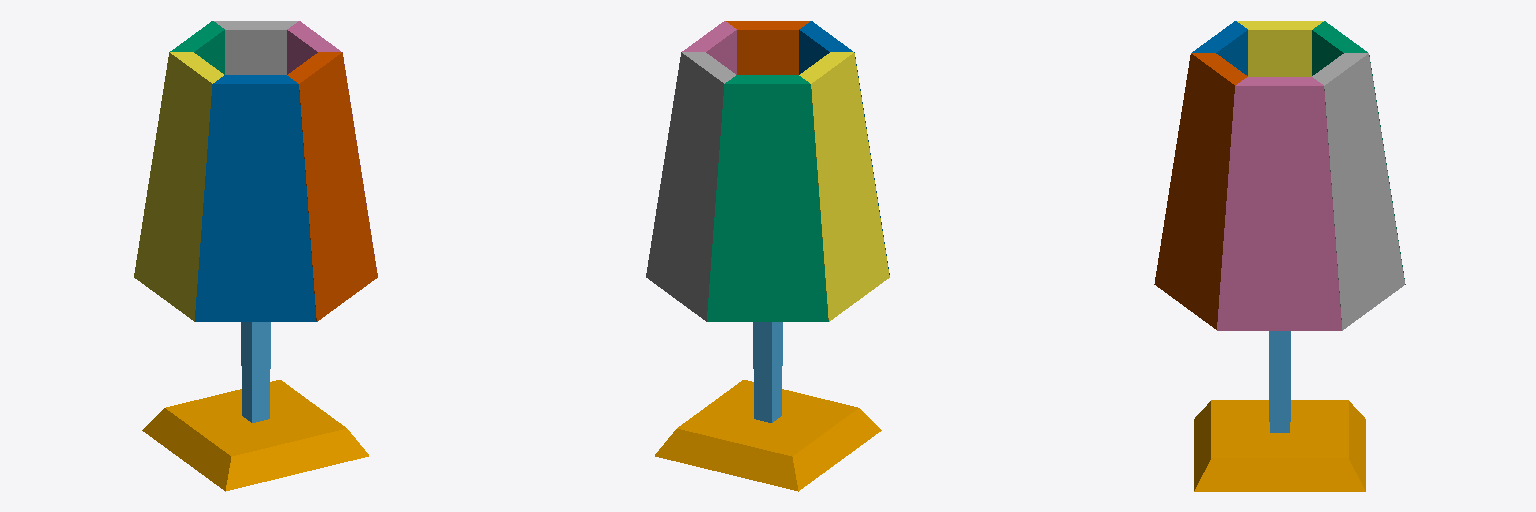
URDF robot description (tablelamp):
<?xml version="1.0"?>
<robot name="tablelamp">
  <link name="base">
    <inertial>
        <origin rpy="0 0 0" xyz="0 0 0"/>
        <mass value="2.0"/>
        <inertia ixx="4.4e-5" ixy="0" ixz="0" iyy="0" iyz="0" izz="4.4e-5"/>
    </inertial>
    <visual>
      <geometry>
        <mesh filename="base.obj"/>
      </geometry>
    </visual>
    <collision>
      <geometry>
        <mesh filename="base.obj"/>
      </geometry>
      <surface>
           <bounce restitution_coefficient = "0.1"/>
      </surface>
    </collision>
  </link>
  <link name="pole">
    <inertial>
        <origin rpy="0 0 0" xyz="0 0 0"/>
        <mass value="1.0"/>
        <inertia ixx="4.4e-5" ixy="0" ixz="0" iyy="0" iyz="0" izz="4.4e-5"/>
    </inertial>
    <visual>
      <geometry>
        <mesh filename="pole.obj"/>
      </geometry>
    </visual>
    <collision>
      <geometry>
        <mesh filename="pole.obj"/>
      </geometry>
      <surface>
           <bounce restitution_coefficient = "0.1"/>
      </surface>
    </collision>
  </link>
  <link name="lampshade_segment_1">
    <inertial>
        <origin rpy="0 0 0" xyz="0 0 0"/>
        <mass value="0.1"/>
        <inertia ixx="4.4e-5" ixy="0" ixz="0" iyy="0" iyz="0" izz="4.4e-5"/>
    </inertial>
    <visual>
      <geometry>
        <mesh filename="lampshade_segment.obj"/>
      </geometry>
    </visual>
    <collision>
      <geometry>
        <mesh filename="lampshade_segment.obj"/>
      </geometry>
      <surface>
           <bounce restitution_coefficient = "0.1"/>
      </surface>
    </collision>
  </link>
  <link name="lampshade_segment_2">
    <inertial>
        <origin rpy="0 0 0" xyz="0 0 0"/>
        <mass value="0.1"/>
        <inertia ixx="4.4e-5" ixy="0" ixz="0" iyy="0" iyz="0" izz="4.4e-5"/>
    </inertial>
    <visual>
      <geometry>
        <mesh filename="lampshade_segment.obj"/>
      </geometry>
    </visual>
    <collision>
      <geometry>
        <mesh filename="lampshade_segment.obj"/>
      </geometry>
      <surface>
           <bounce restitution_coefficient = "0.1"/>
      </surface>
    </collision>
  </link>
  <link name="lampshade_segment_3">
    <inertial>
        <origin rpy="0 0 0" xyz="0 0 0"/>
        <mass value="0.1"/>
        <inertia ixx="4.4e-5" ixy="0" ixz="0" iyy="0" iyz="0" izz="4.4e-5"/>
    </inertial>
    <visual>
      <geometry>
        <mesh filename="lampshade_segment.obj"/>
      </geometry>
    </visual>
    <collision>
      <geometry>
        <mesh filename="lampshade_segment.obj"/>
      </geometry>
      <surface>
           <bounce restitution_coefficient = "0.1"/>
      </surface>
    </collision>
  </link>
  <link name="lampshade_segment_4">
    <inertial>
        <origin rpy="0 0 0" xyz="0 0 0"/>
        <mass value="0.1"/>
        <inertia ixx="4.4e-5" ixy="0" ixz="0" iyy="0" iyz="0" izz="4.4e-5"/>
    </inertial>
    <visual>
      <geometry>
        <mesh filename="lampshade_segment.obj"/>
      </geometry>
    </visual>
    <collision>
      <geometry>
        <mesh filename="lampshade_segment.obj"/>
      </geometry>
      <surface>
           <bounce restitution_coefficient = "0.1"/>
      </surface>
    </collision>
  </link>
  <link name="lampshade_segment_5">
    <inertial>
        <origin rpy="0 0 0" xyz="0 0 0"/>
        <mass value="0.1"/>
        <inertia ixx="4.4e-5" ixy="0" ixz="0" iyy="0" iyz="0" izz="4.4e-5"/>
    </inertial>
    <visual>
      <geometry>
        <mesh filename="lampshade_segment.obj"/>
      </geometry>
    </visual>
    <collision>
      <geometry>
        <mesh filename="lampshade_segment.obj"/>
      </geometry>
      <surface>
           <bounce restitution_coefficient = "0.1"/>
      </surface>
    </collision>
  </link>
  <link name="lampshade_segment_6">
    <inertial>
        <origin rpy="0 0 0" xyz="0 0 0"/>
        <mass value="0.1"/>
        <inertia ixx="4.4e-5" ixy="0" ixz="0" iyy="0" iyz="0" izz="4.4e-5"/>
    </inertial>
    <visual>
      <geometry>
        <mesh filename="lampshade_segment.obj"/>
      </geometry>
    </visual>
    <collision>
      <geometry>
        <mesh filename="lampshade_segment.obj"/>
      </geometry>
      <surface>
           <bounce restitution_coefficient = "0.1"/>
      </surface>
    </collision>
  </link>
  <joint name="base_to_pole" type="fixed">
    <parent link="base"/>
    <child link="pole"/>
    <origin rpy="0 0 0" xyz="0 0 0.108"/>
  </joint>
  <joint name="base_to_lampshade_1" type="fixed">
    <parent link="base"/>
    <child link="lampshade_segment_1"/>
    <origin rpy="0 0 0" xyz="0 0 0.206"/>
  </joint>
  <joint name="base_to_lampshade_2" type="fixed">
    <parent link="base"/>
    <child link="lampshade_segment_2"/>
    <origin rpy="0 0 1.047" xyz="0 0 0.206"/>
  </joint>
  <joint name="base_to_lampshade_3" type="fixed">
    <parent link="base"/>
    <child link="lampshade_segment_3"/>
    <origin rpy="0 0 2.094" xyz="0 0 0.206"/>
  </joint>
  <joint name="base_to_lampshade_4" type="fixed">
    <parent link="base"/>
    <child link="lampshade_segment_4"/>
    <origin rpy="0 0 3.141" xyz="0 0 0.206"/>
  </joint>
  <joint name="base_to_lampshade_5" type="fixed">
    <parent link="base"/>
    <child link="lampshade_segment_5"/>
    <origin rpy="0 0 4.188" xyz="0 0 0.206"/>
  </joint>
  <joint name="base_to_lampshade_6" type="fixed">
    <parent link="base"/>
    <child link="lampshade_segment_6"/>
    <origin rpy="0 0 5.235" xyz="0 0 0.206"/>
  </joint>
</robot>

--- What the picture shows (computed from the rendered views, not written in the file) ---
3 views of the same robot in one strip: view 1: azimuth 30°, elevation 25°; view 2: azimuth 150°, elevation 25°; view 3: azimuth 270°, elevation 25° (orthographic).
Robot: tablelamp — 8 links, 7 joints (7 fixed); root link base; default pose: all joints at 0.
Links seen in each view (by area): view 1: lampshade_segment_3, base, lampshade_segment_4, lampshade_segment_2, lampshade_segment_6, pole, lampshade_segment_5, lampshade_segment_1; view 2: lampshade_segment_1, base, lampshade_segment_2, lampshade_segment_6, lampshade_segment_4, pole, lampshade_segment_3, lampshade_segment_5; view 3: lampshade_segment_5, base, lampshade_segment_6, lampshade_segment_4, lampshade_segment_2, pole, lampshade_segment_1, lampshade_segment_3.
Link boxes in pixels (x1,y1,x2,y2): lampshade_segment_3: (195,75,316,321); base: (142,380,368,491); lampshade_segment_4: (287,52,377,321); lampshade_segment_2: (134,52,223,321); lampshade_segment_6: (214,21,297,74); pole: (241,322,270,422); lampshade_segment_5: (287,21,377,274); lampshade_segment_1: (170,21,224,74); lampshade_segment_1: (707,75,828,321); base: (655,380,881,491); lampshade_segment_2: (799,52,889,321); lampshade_segment_6: (646,52,735,321); lampshade_segment_4: (726,21,809,74); pole: (753,322,782,422); lampshade_segment_3: (799,21,889,274); lampshade_segment_5: (682,21,736,74); lampshade_segment_5: (1217,77,1341,330); base: (1194,400,1365,491); lampshade_segment_6: (1312,53,1404,330); lampshade_segment_4: (1154,53,1247,329); lampshade_segment_2: (1237,21,1323,76); pole: (1269,331,1290,432); lampshade_segment_1: (1312,21,1405,284); lampshade_segment_3: (1192,21,1247,75).
Bounding box of the posed robot: 0.1523 × 0.1756 × 0.31 m (x, y, z).
8 mesh visuals loaded from 3 distinct referenced files (3 OBJ).